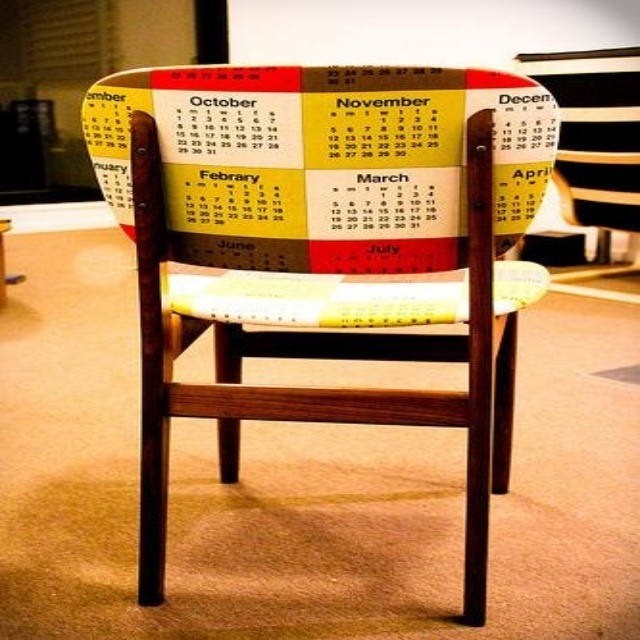obstacle: (83, 65, 555, 625)
